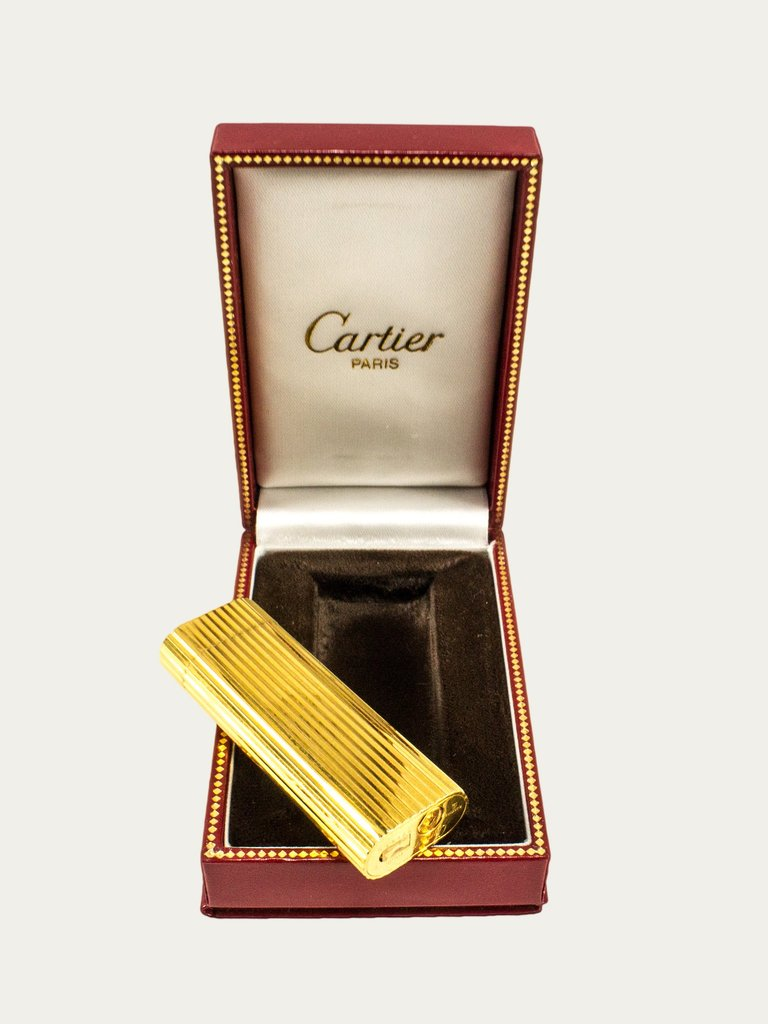Nonrec_Other: (176, 86, 614, 922)
